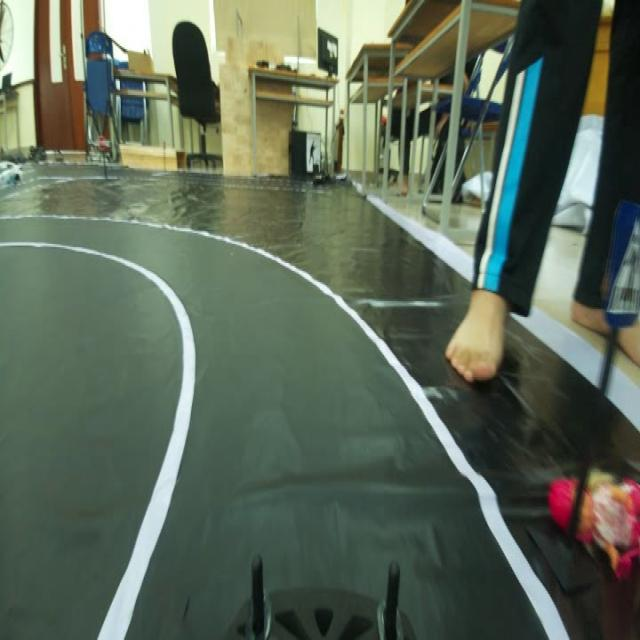crosswalk: (595, 193, 640, 321)
